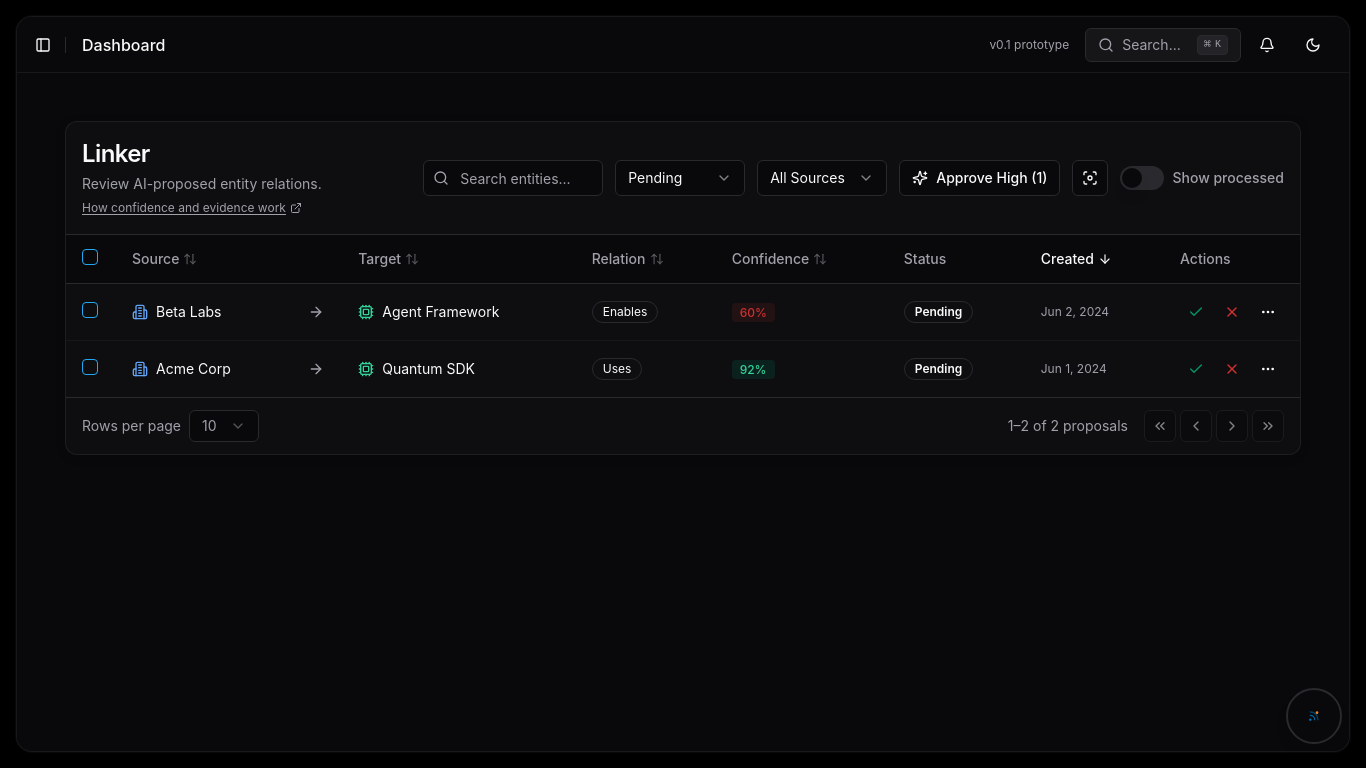
LinkerTriagePage — library-table conventions › shows the shared floating toolbar when rows are selected, with Approve/Reject/Delete
Check: the text "Acme Corp" is shown, box [156,358,231,378]
Click the checkbox named "Select Acme Corp → Quantum SDK": [90, 366] box [82,358,98,374]
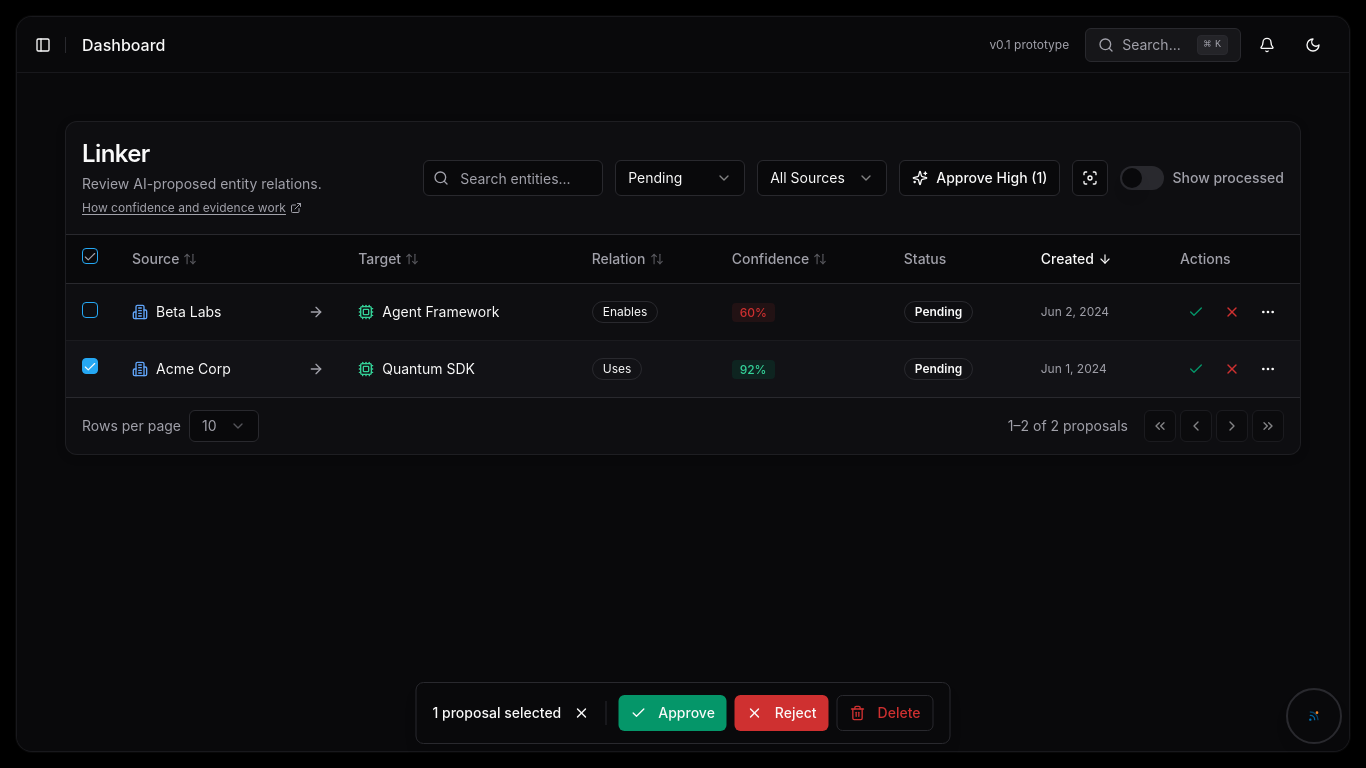
Check: the text "1 proposal selected" is shown, box [432,703,561,723]
Check: the button with test id "bulk-approve" is shown, box [618,695,727,731]
Check: the button with test id "bulk-reject" is shown, box [735,695,829,731]
